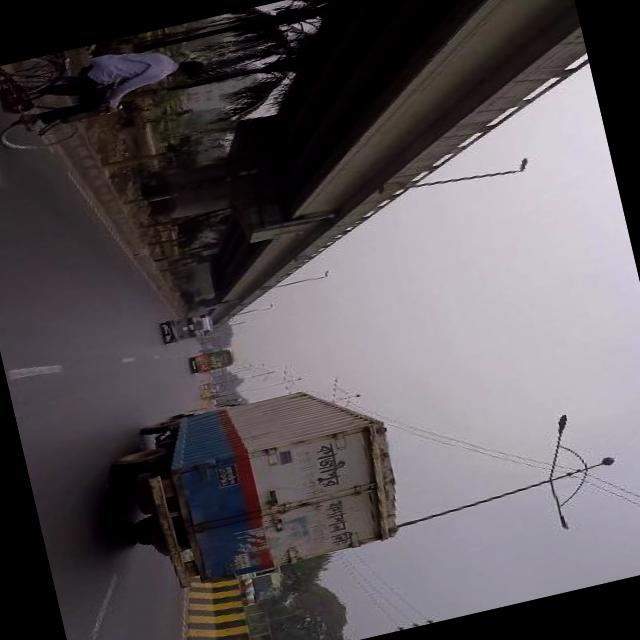bus: (237, 564, 290, 606), (186, 346, 238, 376)
motorcycle: (161, 309, 217, 343)
truck: (105, 366, 416, 604)
